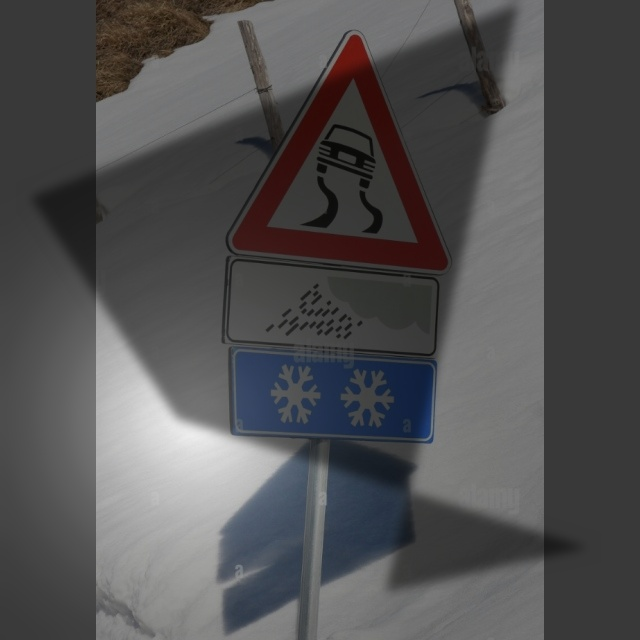Slippery_Road: (234, 32, 452, 268)
